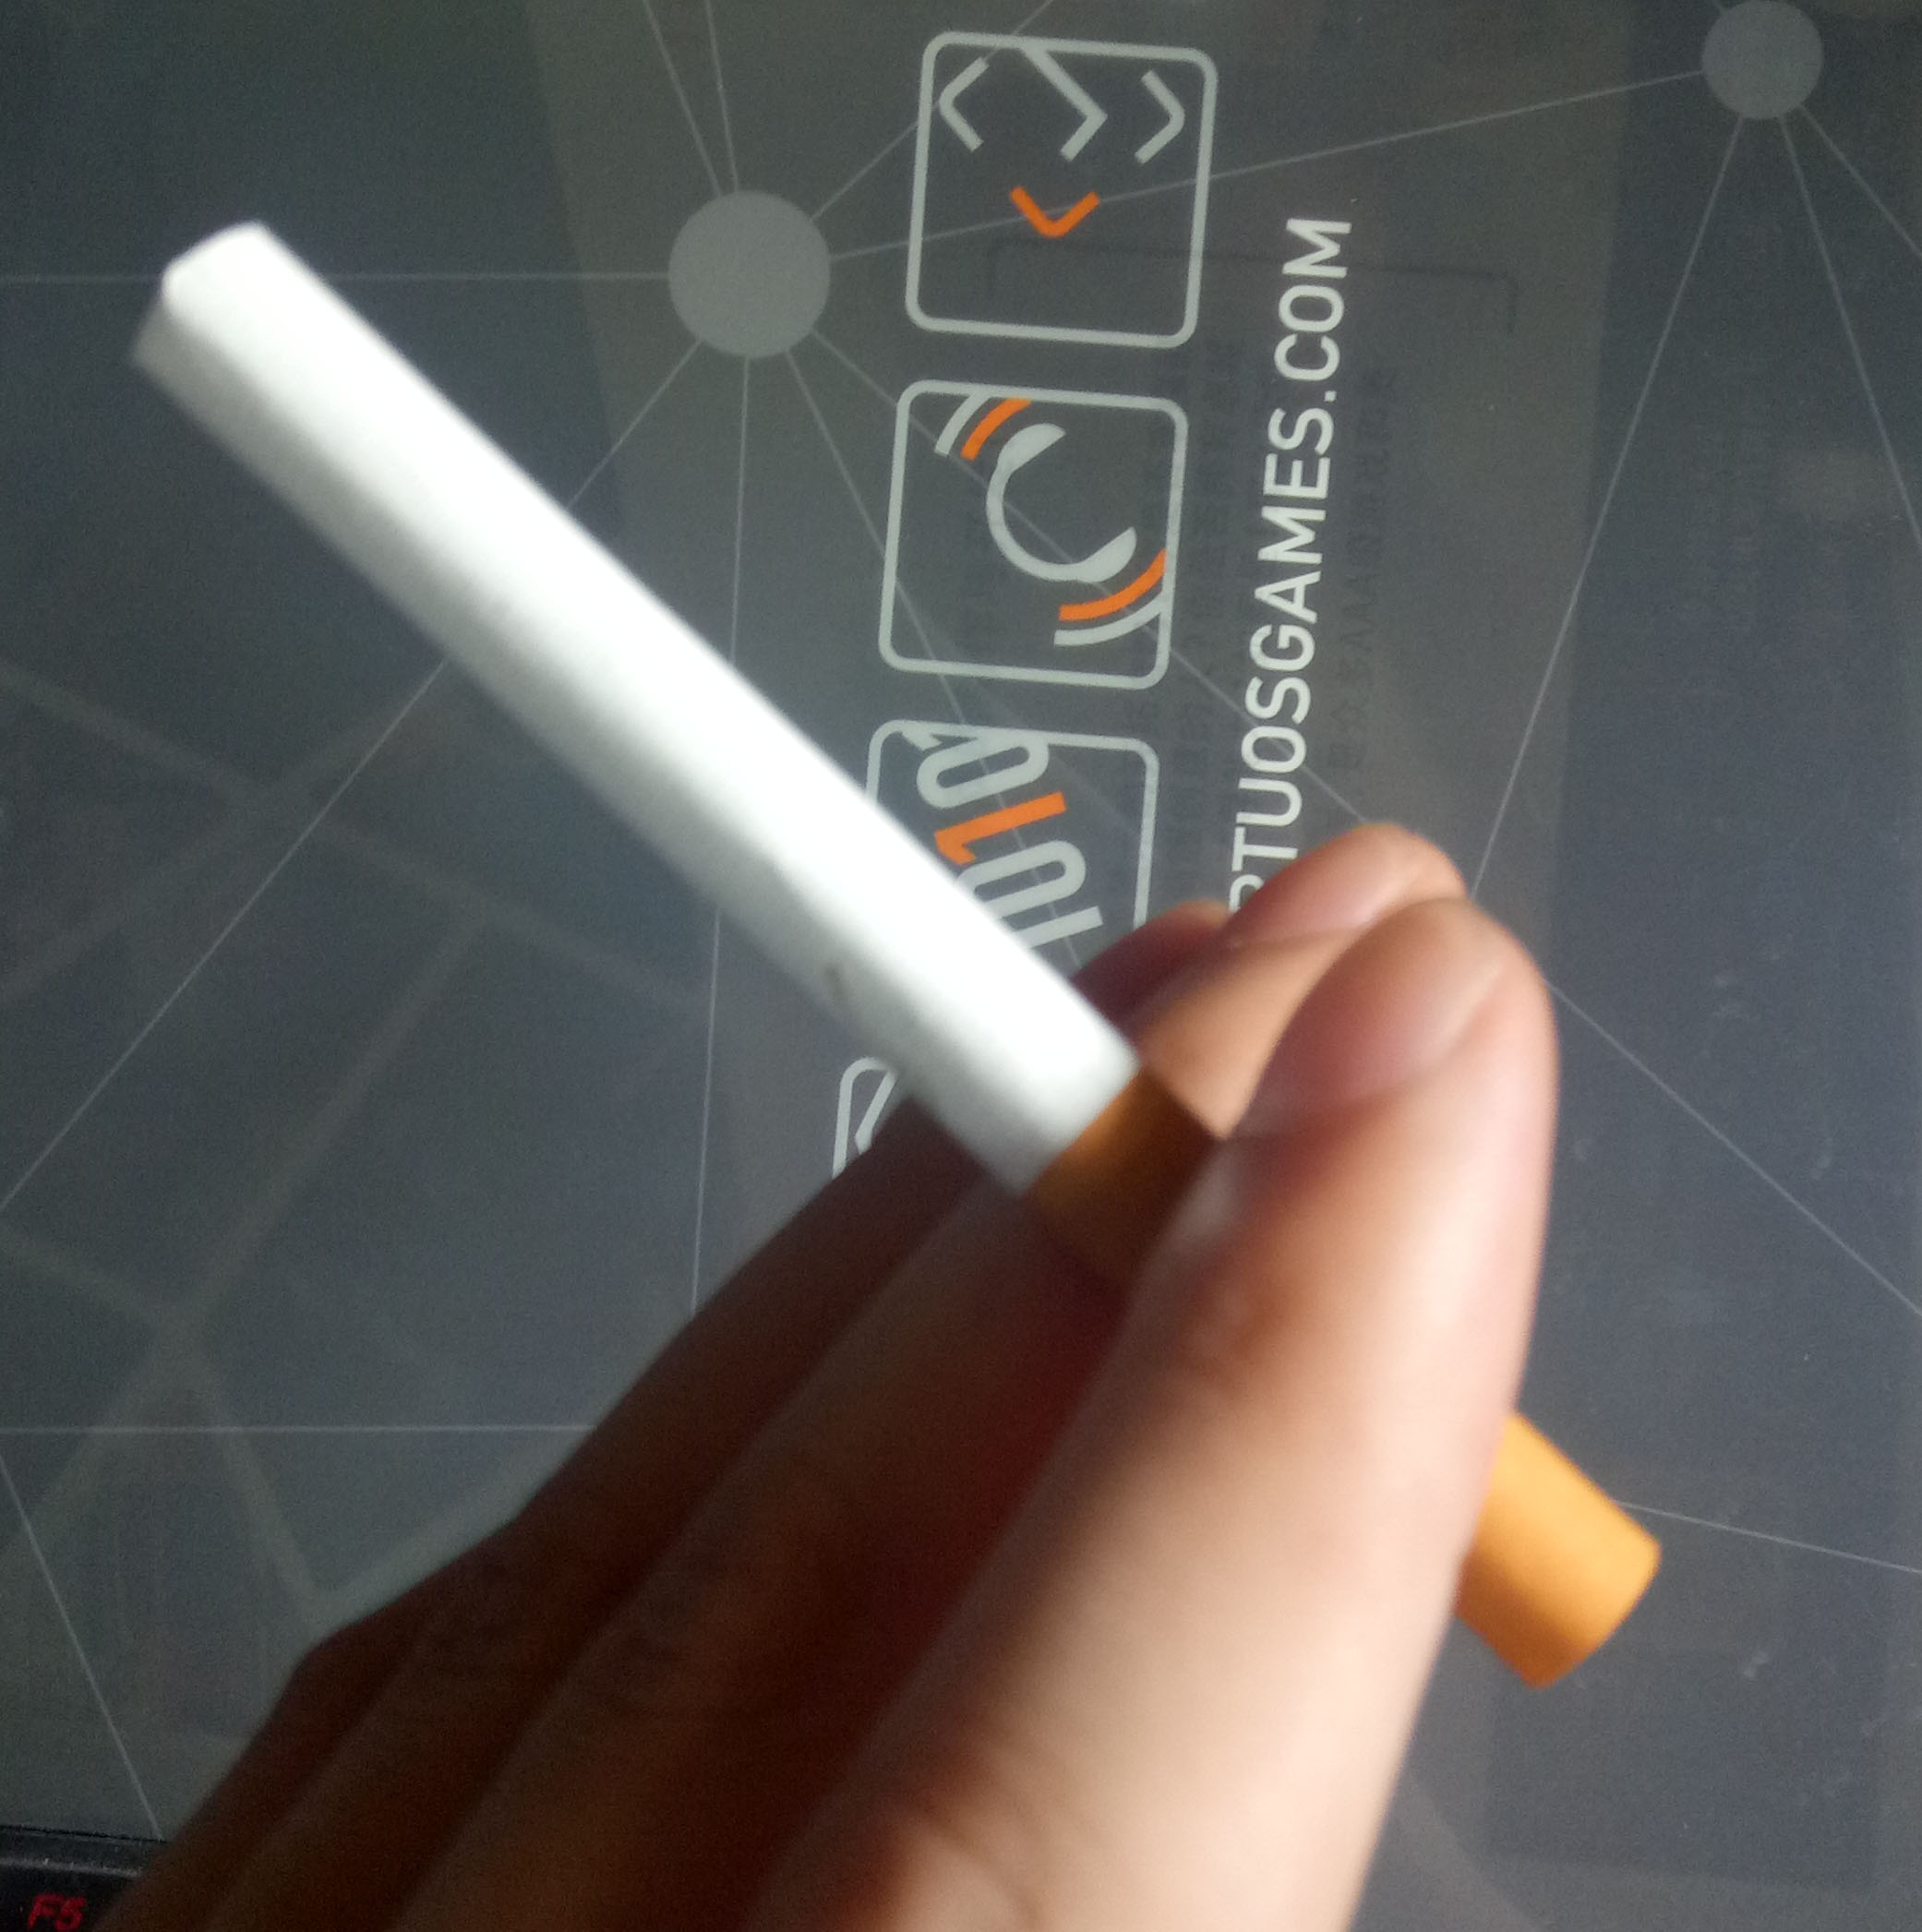cigarette: (102, 195, 1684, 1707)
